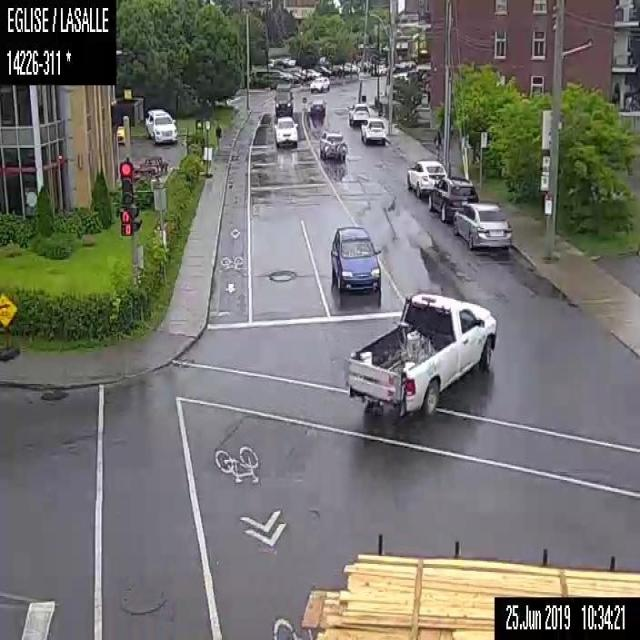pedestrian: (432, 127, 442, 161), (214, 119, 222, 152)
vehicle: (298, 530, 639, 638), (348, 288, 498, 417), (328, 223, 382, 296), (450, 200, 514, 250), (425, 174, 478, 222), (406, 157, 447, 197), (142, 107, 178, 144), (318, 127, 347, 160), (273, 113, 298, 148), (361, 117, 386, 145), (273, 81, 293, 114), (347, 100, 369, 122), (308, 93, 326, 116), (310, 74, 330, 90)
